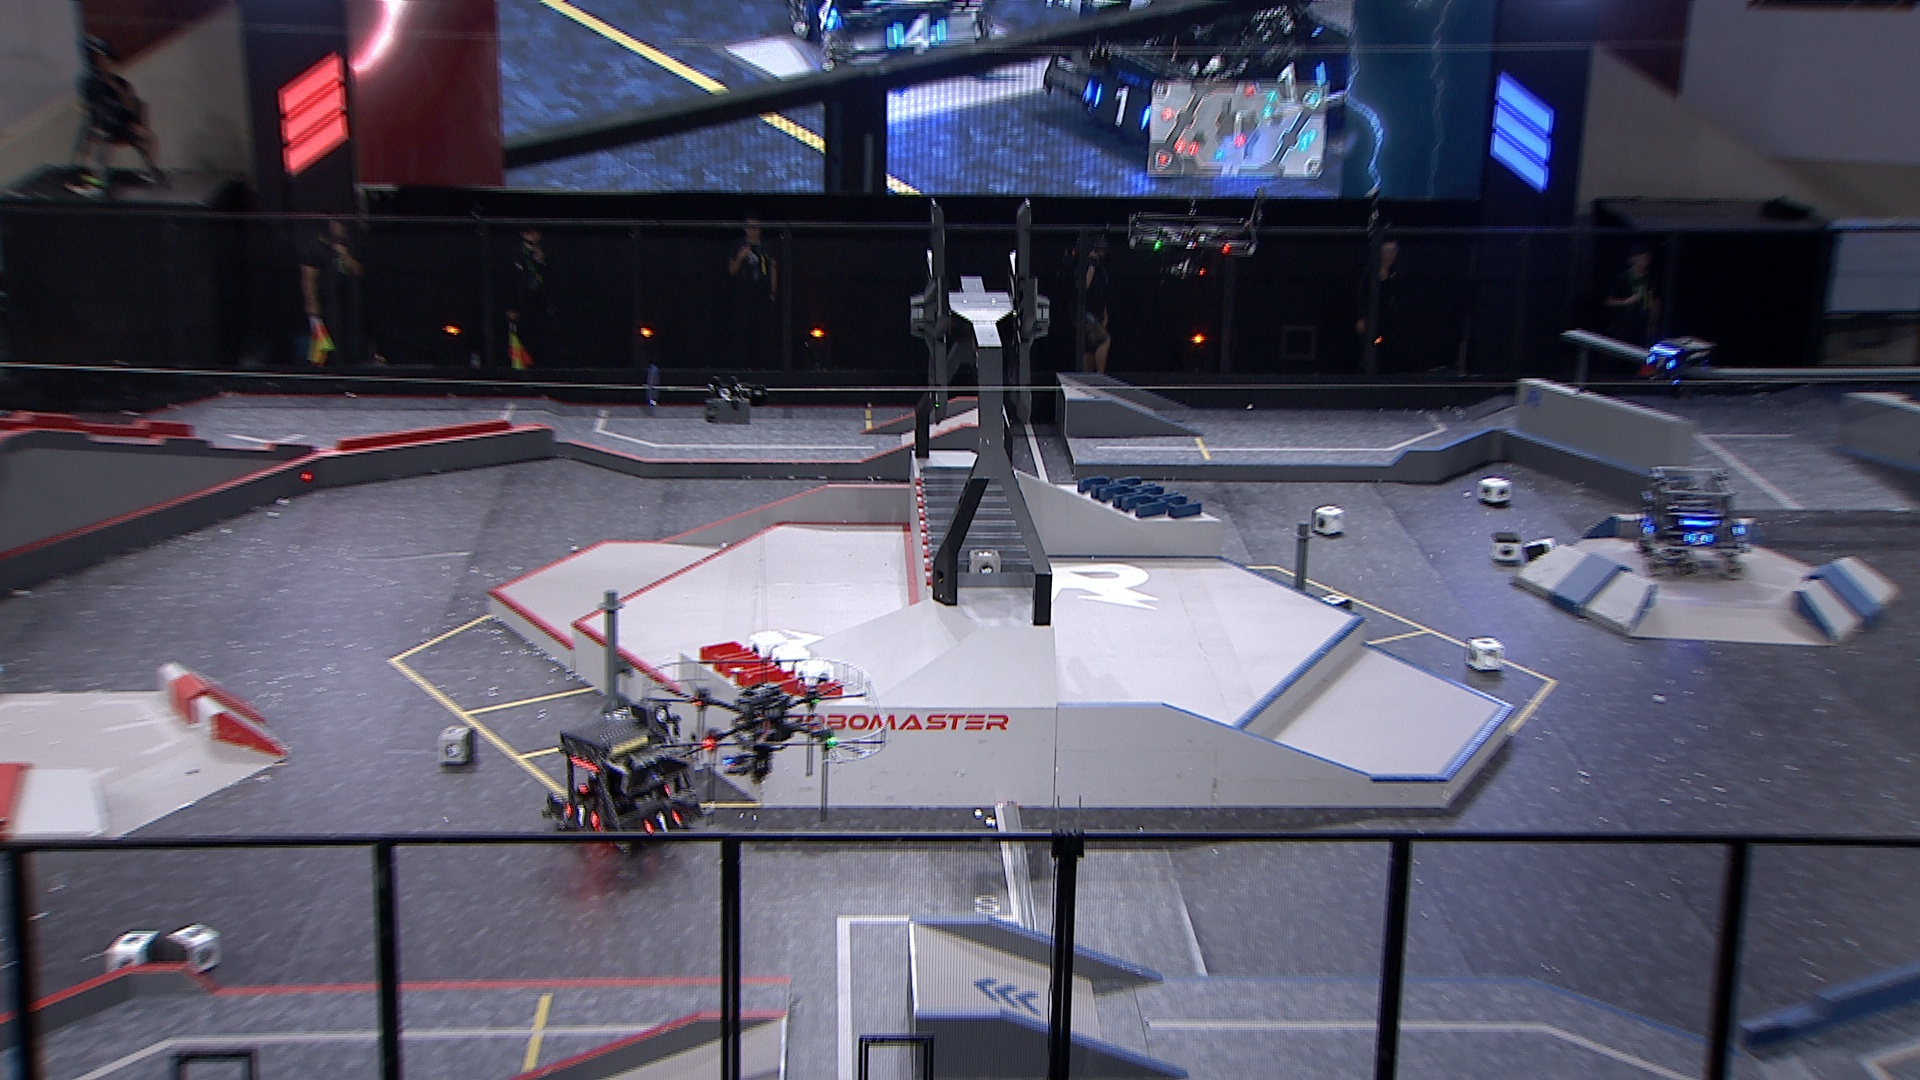armor: (645, 807, 680, 841), (564, 803, 599, 829), (1644, 352, 1679, 372), (1685, 527, 1712, 546)
car: (545, 713, 703, 855), (1636, 463, 1750, 583)
watcher: (1636, 334, 1712, 404)
